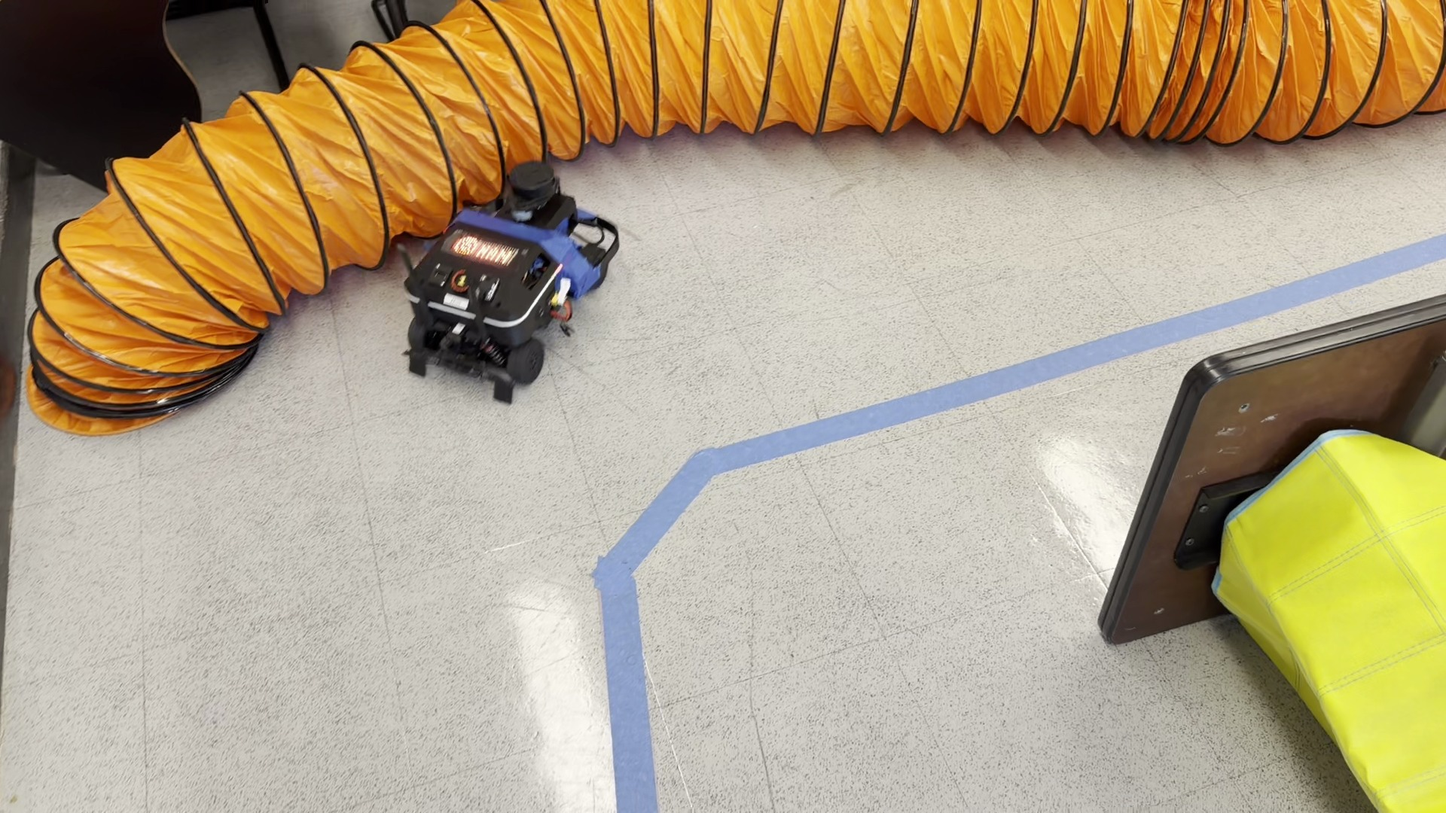racecar: (399, 161, 619, 404)
